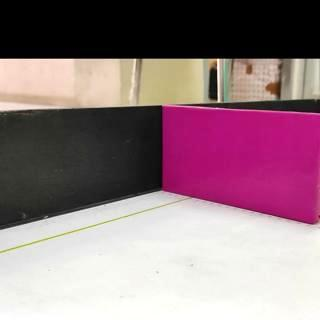xparking: (165, 114, 320, 210)
